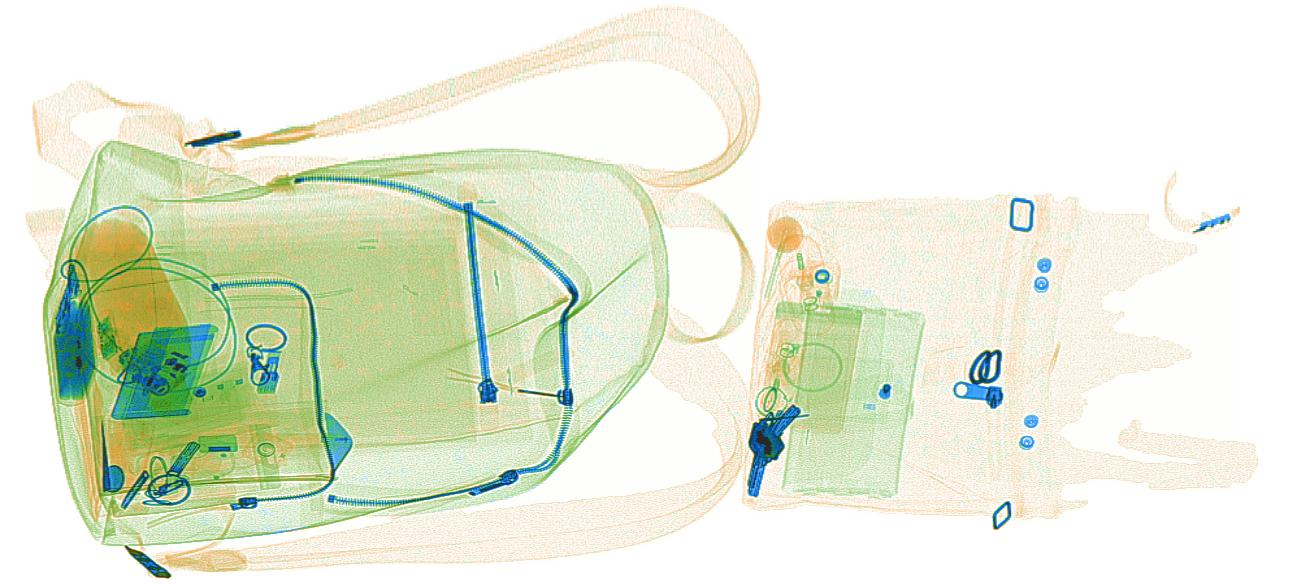USBFlashDisk: (254, 348, 283, 395), (96, 314, 121, 360)
